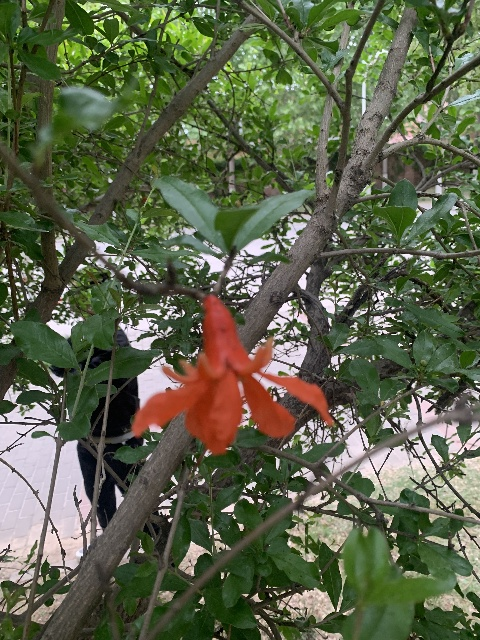flower: (133, 294, 331, 456)
